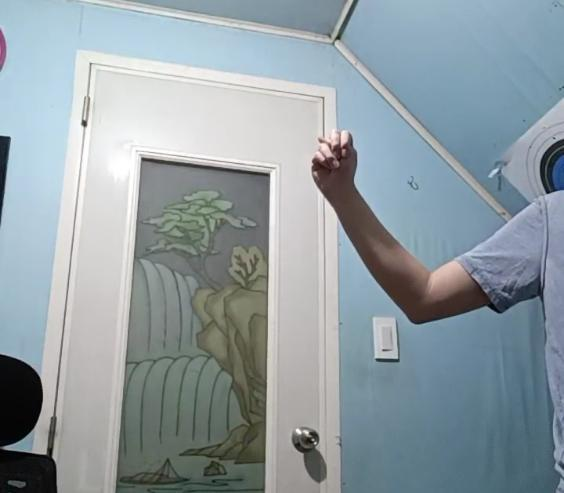n: (310, 124, 358, 194)
